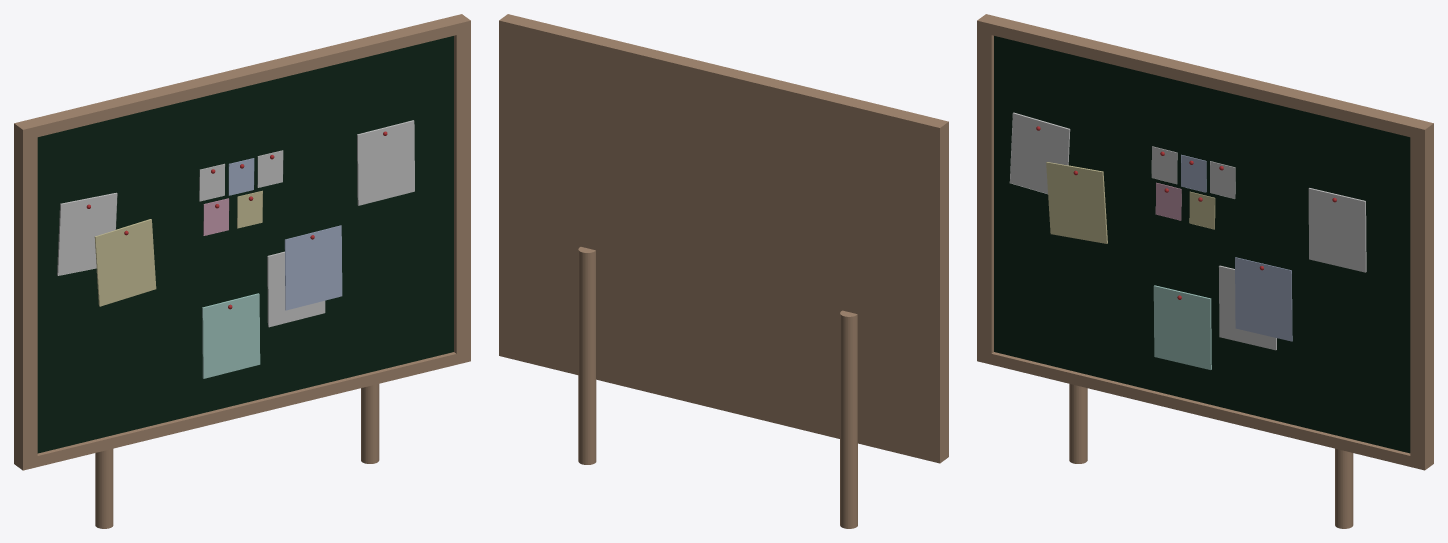
Rendered from Board.fbx.
3 renders of one model, left to right at view 1: azimuth 30°, elevation 25°; view 2: azimuth 150°, elevation 25°; view 3: azimuth 330°, elevation 25°, orthographic.
Parts seen in each view (by area): view 1: Cylinder.012; view 2: Cylinder.012; view 3: Cylinder.012.
Part boxes in pixels (x1,y1,x2,y2): Cylinder.012: (14, 14, 470, 528); Cylinder.012: (499, 14, 948, 528); Cylinder.012: (977, 14, 1433, 528).
Bounding box in the file's own units: 1027 × 931 × 71.04.
